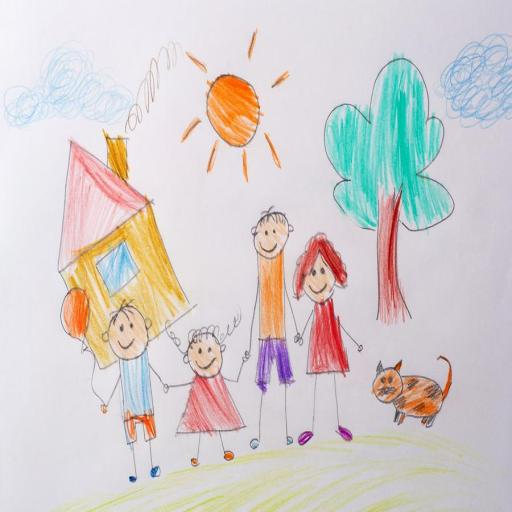person: (295, 228, 362, 455), (168, 307, 250, 478), (99, 293, 169, 489), (243, 202, 294, 460)
